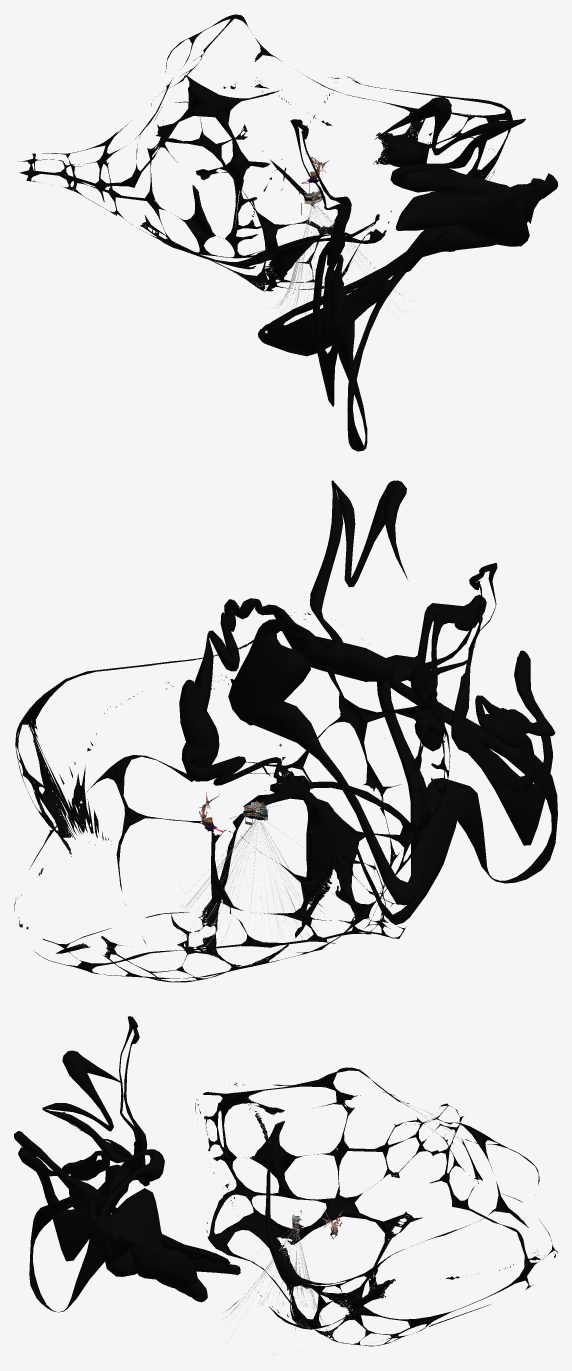
3 views of the same model, one above another, from view 1: azimuth 30°, elevation 25°; view 2: azimuth 150°, elevation 25°; view 3: azimuth 270°, elevation 25° (orthographic). The views are drawn at different scales.
Parts seen in each view (by area): view 1: drawsel; view 2: drawsel; view 3: drawsel.
Part boxes in pixels (box(x1,y1,x2,y2)): drawsel: box(18, 14, 557, 451); drawsel: box(14, 480, 557, 982); drawsel: box(14, 1016, 557, 1356).
Bounding box in the file's own units: 621 × 471 × 767.
Materials: 16 (16 with a texture image).
